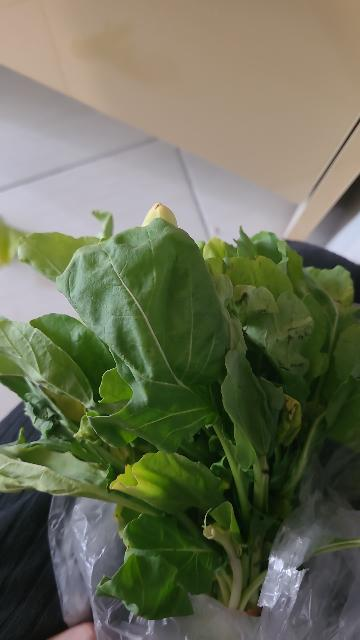Organik: (8, 227, 360, 615)
